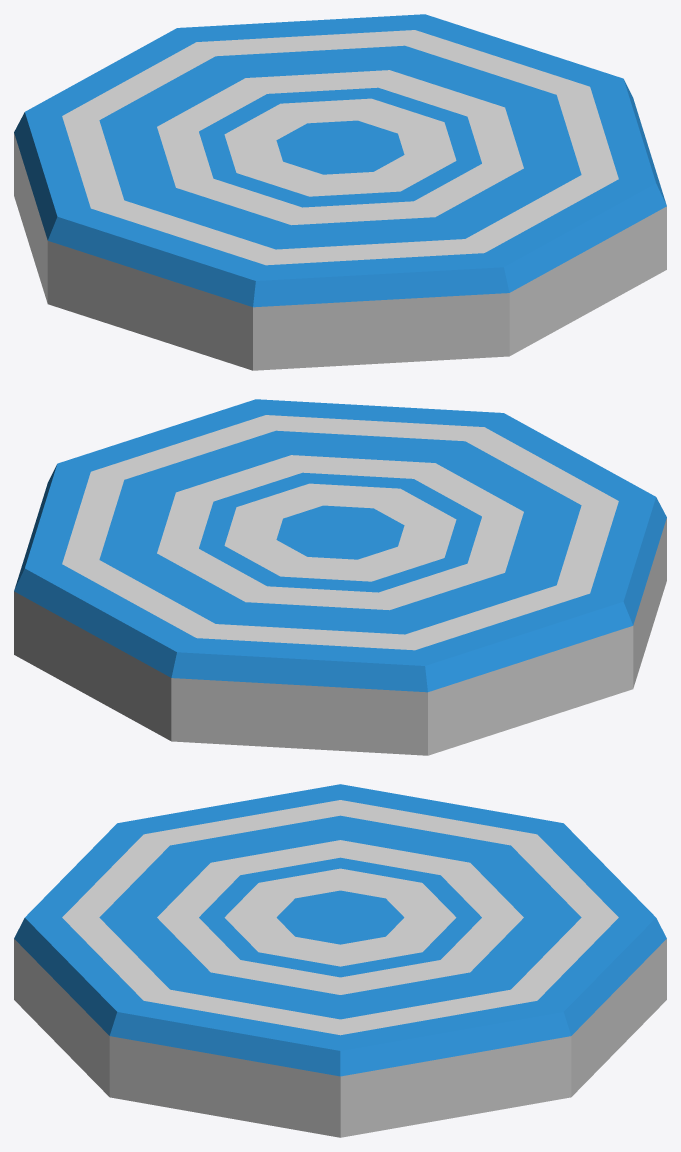
File: base spawn azul.fbx
3 renders of one model, top to bottom at view 1: azimuth 30°, elevation 25°; view 2: azimuth 150°, elevation 25°; view 3: azimuth 270°, elevation 25°, orthographic. The views are drawn at different scales.
Visible parts, largest first — view 1: Circle; view 2: Circle; view 3: Circle.
Boxes of the visible parts, bbox=[...] form: Circle: bbox=[14, 14, 666, 370]; Circle: bbox=[14, 399, 666, 755]; Circle: bbox=[14, 784, 666, 1137].
Bounding box in the file's own units: 200 × 27.8 × 200.
